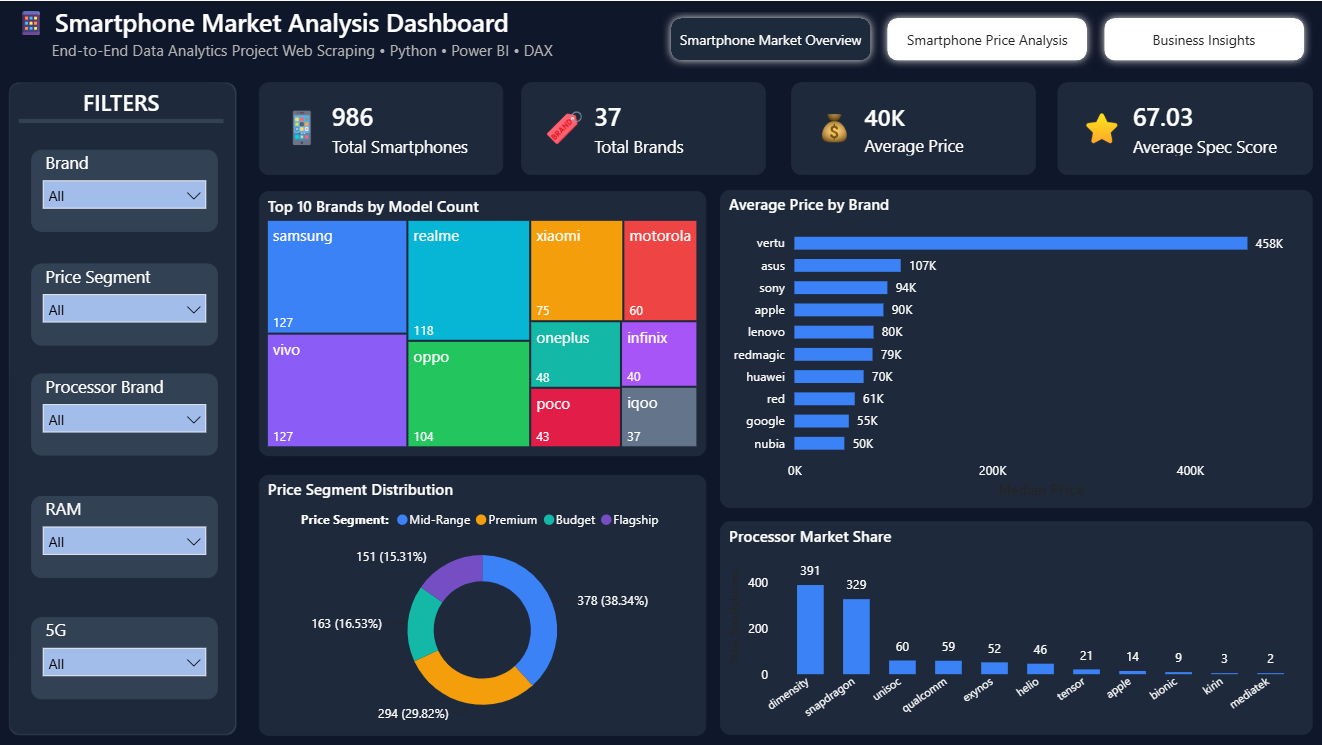

The dashboard page shown, as its layout file describes it:
{"tool":"powerbi","page":{"name":"Smartphone Market Overview","canvas":[1280,720],"ordinal":0},"visuals":[{"type":"cardVisual","fields":{"Data":["smartphones_cleaned.Total Smartphones"]},"box":[249.5,78.2,235.8,89.4],"z":0},{"type":"shape","box":[8.7,78.2,219.7,630.6],"z":1000},{"type":"cardVisual","fields":{"Data":["smartphones_cleaned.Total Brands"]},"box":[502.7,78.2,235.8,89.4],"z":2000},{"type":"textbox","box":[29.8,78.2,173.8,39.7],"z":3000},{"type":"cardVisual","fields":{"Data":["smartphones_cleaned.Average Price"]},"box":[763.4,78.2,235.8,89.4],"z":4000},{"type":"shape","box":[18.3,110.5,197.9,9.7],"z":5000},{"type":"cardVisual","fields":{"Data":["smartphones_cleaned.Average Rating"]},"box":[1020.6,78.4,246.1,89.3],"z":6000},{"type":"slicer","fields":{"Values":["smartphones_cleaned.ram_capacity"]},"box":[29.8,477.9,180,79.4],"z":7000},{"type":"slicer","fields":{"Values":["smartphones_cleaned.brand_name"]},"box":[29.8,144,180,79.4],"z":8000},{"type":"slicer","fields":{"Values":["smartphones_cleaned.price_segment"]},"box":[29.8,253.2,180,79.4],"z":9000},{"type":"slicer","fields":{"Values":["smartphones_cleaned.has_5g"]},"box":[29.8,594.6,180,79.4],"z":10000},{"type":"slicer","fields":{"Values":["smartphones_cleaned.processor_brand"]},"box":[29.8,360,180,79.4],"z":11000},{"type":"treemap","title":"Top 10 Brands by Model Count","fields":{"Group":["smartphones_cleaned.brand_name"],"Values":["CountNonNull(smartphones_cleaned.model_name)"]},"box":[249.5,183.7,432,255.7],"z":12000},{"type":"clusteredBarChart","title":"Average Price by Brand","fields":{"Category":["smartphones_cleaned.brand_name"],"Y":["smartphones_cleaned.Median Price"]},"box":[695.5,182.4,572.4,307],"z":13000},{"type":"donutChart","title":"Price Segment Distribution","fields":{"Category":["smartphones_cleaned.price_segment"],"Y":["smartphones_cleaned.Total Smartphones"]},"box":[249.5,456.8,432,252],"z":14000},{"type":"clusteredColumnChart","title":"Processor Market Share","fields":{"Category":["smartphones_cleaned.processor_brand"],"Y":["smartphones_cleaned.Total Smartphones"]},"box":[695.1,501.5,572.2,206.1],"z":15000},{"type":"textbox","box":[8.7,0,546.2,67],"z":16000},{"type":"pageNavigator","box":[639.4,9,627.3,57.9],"z":17000}]}

Visuals, with their boxes in screenshot pixels (x1, y1, x2, y2), scaled from the page's 1280x720 canvas onto the 1322x745 screenshot:
cardVisual - smartphones_cleaned.Total Smartphones: 258, 81, 501, 173
shape: 9, 81, 236, 733
cardVisual - smartphones_cleaned.Total Brands: 519, 81, 763, 173
textbox: 31, 81, 210, 122
cardVisual - smartphones_cleaned.Average Price: 788, 81, 1032, 173
shape: 19, 114, 223, 124
cardVisual - smartphones_cleaned.Average Rating: 1054, 81, 1308, 174
slicer - smartphones_cleaned.ram_capacity: 31, 494, 217, 577
slicer - smartphones_cleaned.brand_name: 31, 149, 217, 231
slicer - smartphones_cleaned.price_segment: 31, 262, 217, 344
slicer - smartphones_cleaned.has_5g: 31, 615, 217, 697
slicer - smartphones_cleaned.processor_brand: 31, 373, 217, 455
"Top 10 Brands by Model Count" treemap: 258, 190, 704, 455
"Average Price by Brand" clusteredBarChart: 718, 189, 1310, 506
"Price Segment Distribution" donutChart: 258, 473, 704, 733
"Processor Market Share" clusteredColumnChart: 718, 519, 1309, 732
textbox: 9, 0, 573, 69
pageNavigator: 660, 9, 1308, 69
